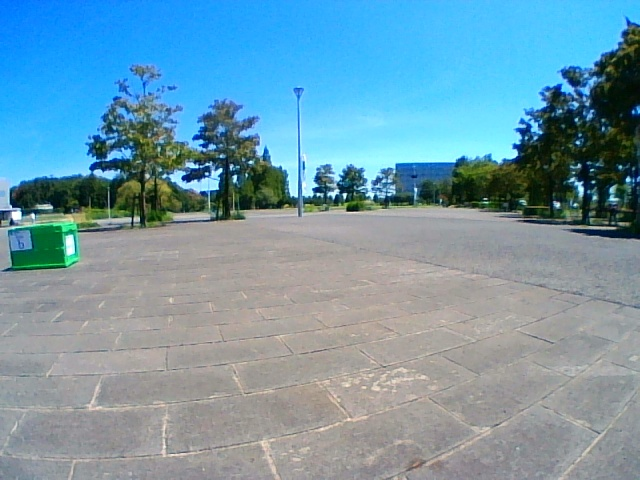green_box: (9, 221, 79, 269)
tag_b: (11, 229, 30, 251)
